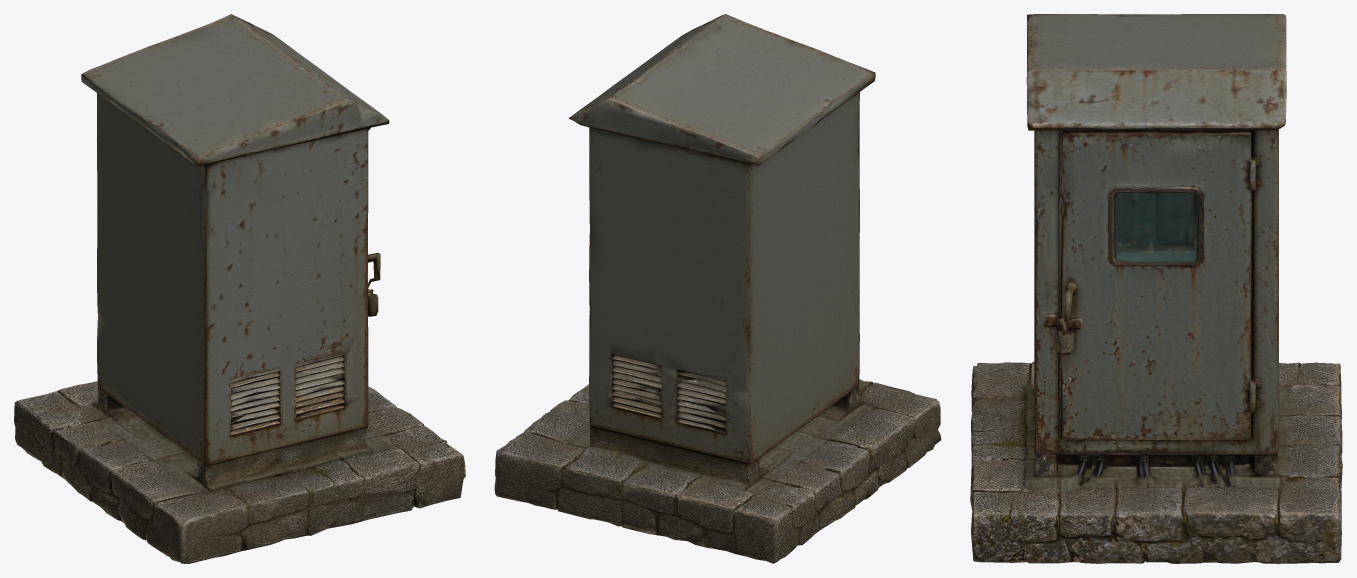
Rendered from relay.glb.
The picture shows the model from 3 angles, left to right: view 1: azimuth 30°, elevation 25°; view 2: azimuth 150°, elevation 25°; view 3: azimuth 270°, elevation 25°; orthographic projection. The views are drawn at different scales.
Visible parts, largest first — view 1: tripo_node_55dd764e-acbb-484e-9758-d01d1c59e6e3; view 2: tripo_node_55dd764e-acbb-484e-9758-d01d1c59e6e3; view 3: tripo_node_55dd764e-acbb-484e-9758-d01d1c59e6e3.
Boxes of the visible parts, x1=… form: tripo_node_55dd764e-acbb-484e-9758-d01d1c59e6e3: x1=14, y1=14, x2=465, y2=563; tripo_node_55dd764e-acbb-484e-9758-d01d1c59e6e3: x1=494, y1=14, x2=941, y2=563; tripo_node_55dd764e-acbb-484e-9758-d01d1c59e6e3: x1=970, y1=14, x2=1342, y2=563.
Bounding box in the file's own units: 1.87 × 2.5 × 1.89.
1 material, 1 textured.
